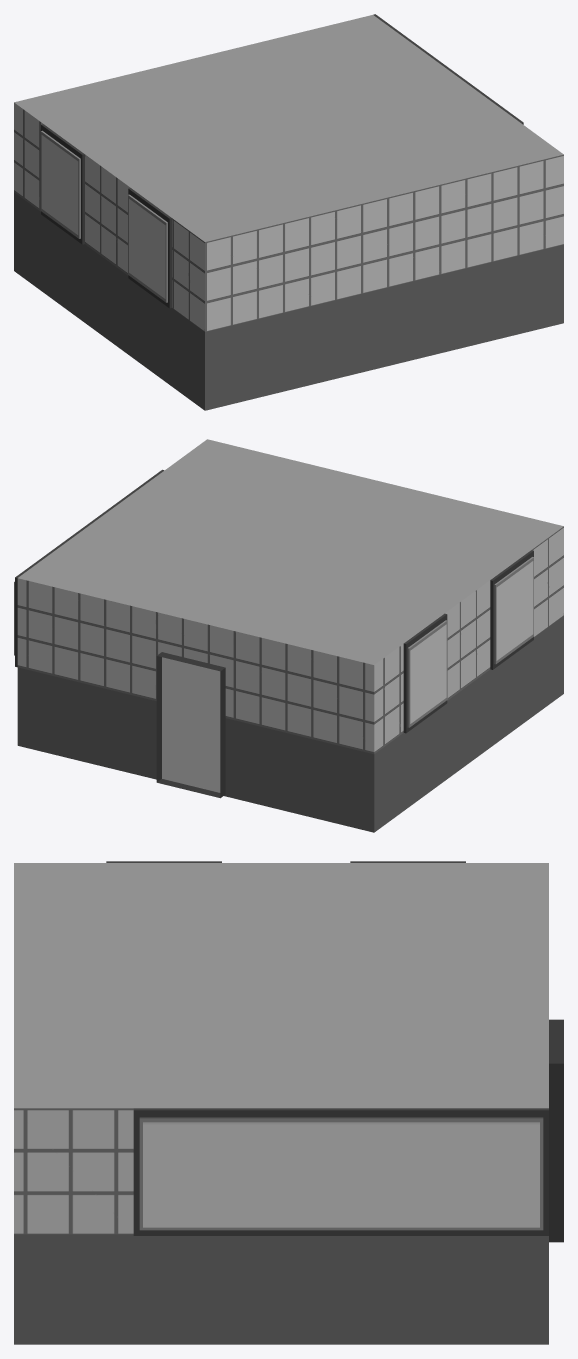
File: KitchenModel.fbx
3 views of the same model, one above another, from view 1: azimuth 30°, elevation 25°; view 2: azimuth 150°, elevation 25°; view 3: azimuth 270°, elevation 25° (orthographic). The views are drawn at different scales.
Parts seen in each view (by area): view 1: KitchenModel; view 2: KitchenModel; view 3: KitchenModel.
Boxes of the visible parts, <box> form: KitchenModel: <box>14,14,563,410</box>; KitchenModel: <box>14,439,563,832</box>; KitchenModel: <box>14,861,563,1344</box>.
Size of the model in its own units: 683 by 297 by 627.
